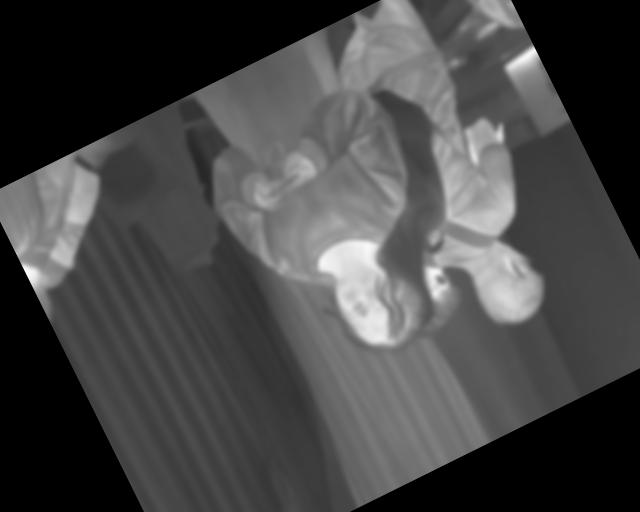face: (322, 247, 440, 368)
